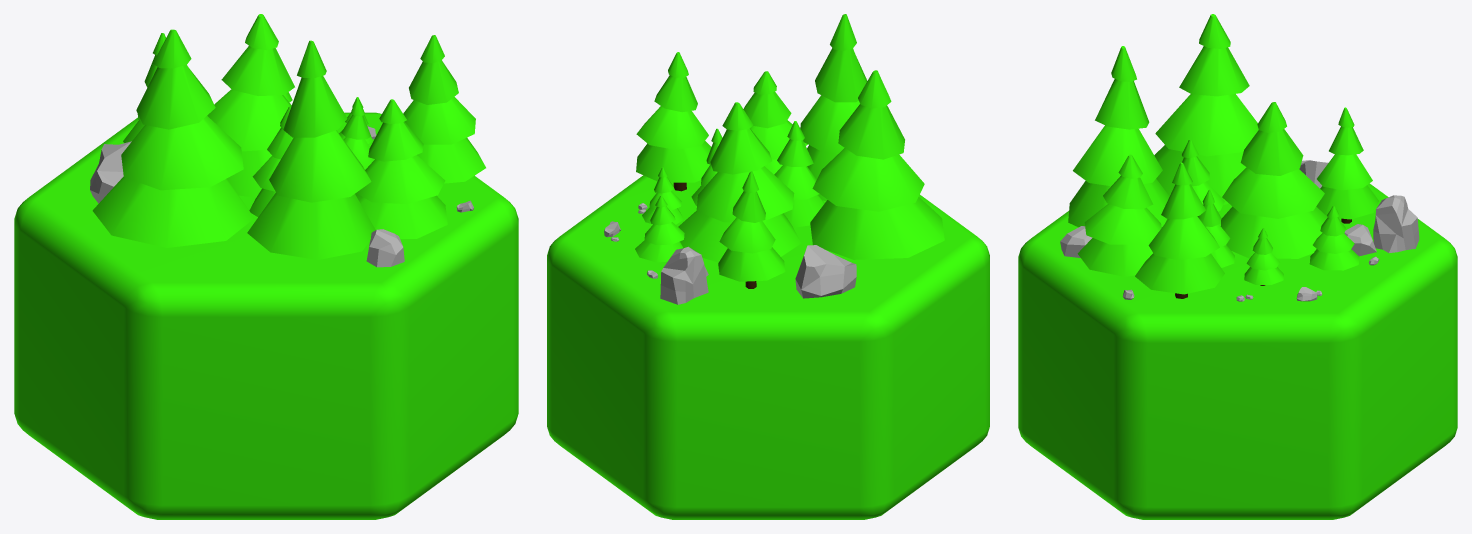
Rendered from SM_Cell_Forest.fbx.
The picture shows the model from 3 angles, left to right: view 1: azimuth 30°, elevation 25°; view 2: azimuth 150°, elevation 25°; view 3: azimuth 270°, elevation 25°; orthographic projection. The views are drawn at different scales.
Visible parts, largest first — view 1: Hex_01; view 2: Hex_01; view 3: Hex_01.
Boxes of the visible parts, bbox=[...] form: Hex_01: bbox=[14, 14, 518, 519]; Hex_01: bbox=[547, 14, 989, 519]; Hex_01: bbox=[1018, 14, 1457, 519].
Bounding box in the file's own units: 173 × 190 × 194.
